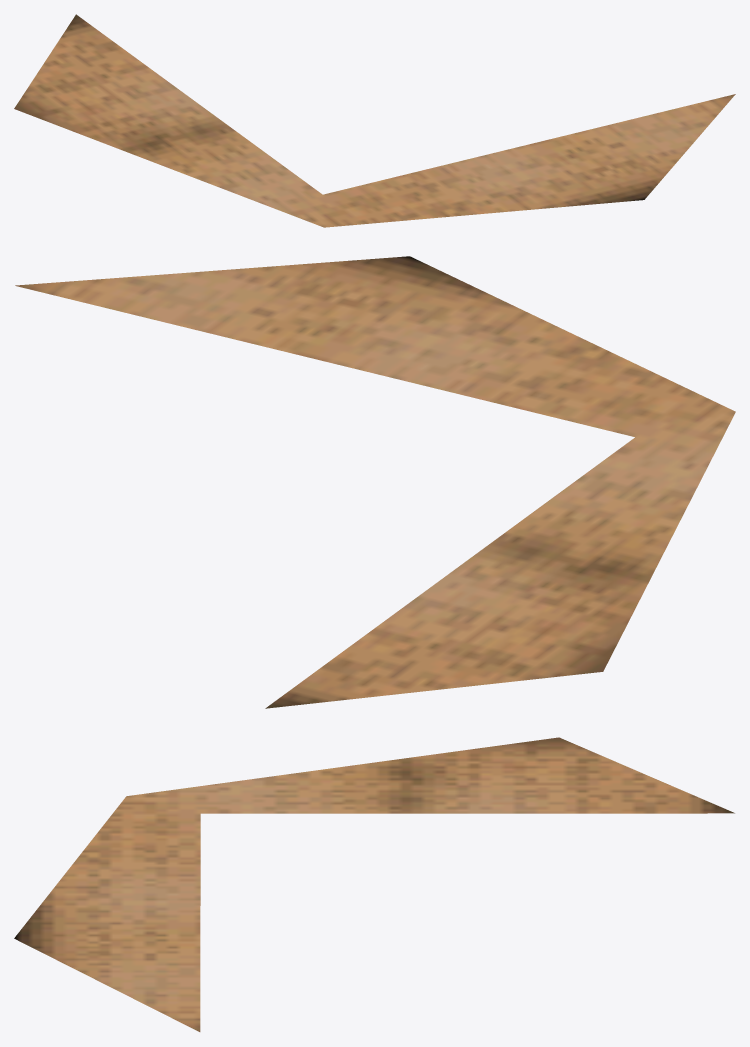
File: BodenErker [KaputtesLinoleum]_1437.glb
The picture shows the model from 3 angles, top to bottom: view 1: azimuth 30°, elevation 25°; view 2: azimuth 150°, elevation 25°; view 3: azimuth 270°, elevation 25°; orthographic projection. The views are drawn at different scales.
Visible parts, largest first — view 1: polySurfaceShape1244; view 2: polySurfaceShape1244; view 3: polySurfaceShape1244.
Part boxes in pixels (x1,y1,x2,y2): polySurfaceShape1244: (14,14,735,227); polySurfaceShape1244: (15,256,735,708); polySurfaceShape1244: (14,737,734,1031).
Size of the model in its own units: 0.2875 by 1.3e-08 by 0.2972.
Materials: 1 (1 with a texture image).
